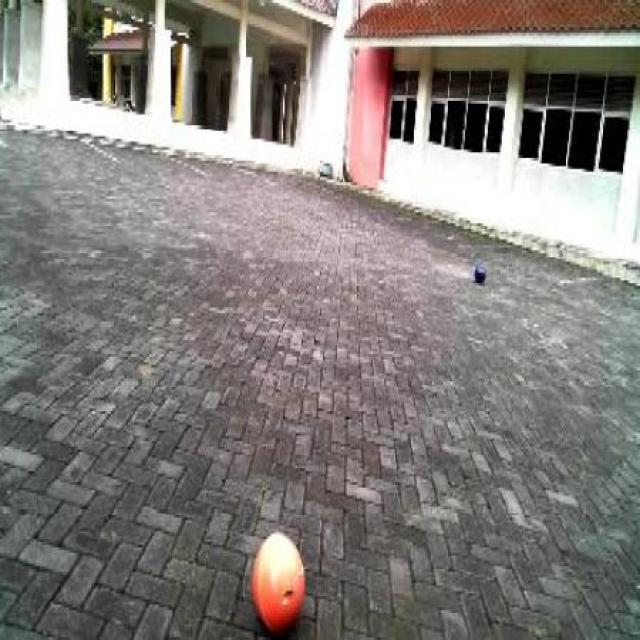buoy: (241, 513, 312, 636), (467, 252, 490, 296)
